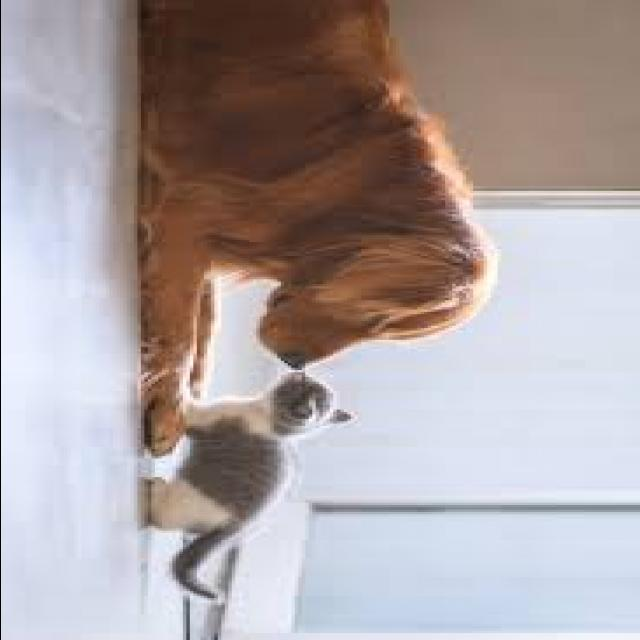cat: (136, 372, 357, 610)
dog: (137, 0, 497, 372)
